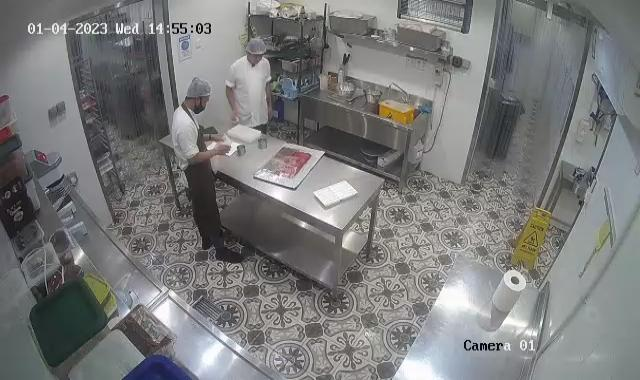hairnet: (186, 73, 212, 103), (245, 38, 267, 62)
